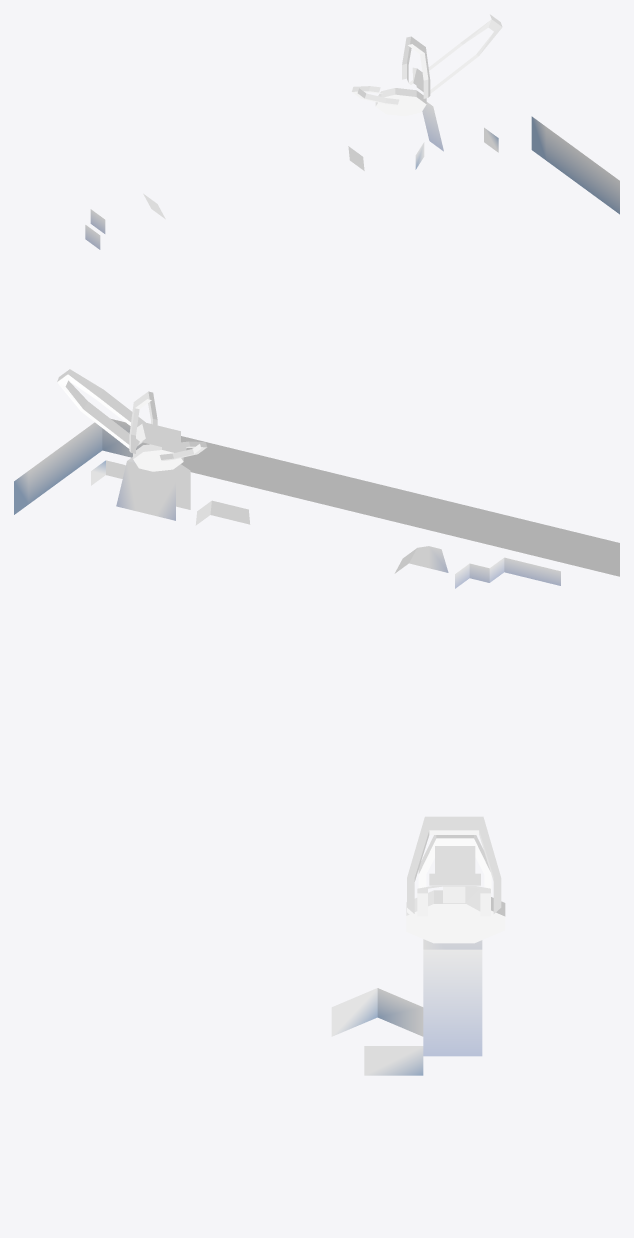
3 views of the same model, one above another, from view 1: azimuth 30°, elevation 25°; view 2: azimuth 150°, elevation 25°; view 3: azimuth 270°, elevation 25° (orthographic). The views are drawn at different scales.
Parts seen in each view (by area): view 1: object0; view 2: object0; view 3: object0.
Part boxes in pixels (<box>): object0: <box>85,14,619,249</box>; object0: <box>14,369,619,588</box>; object0: <box>331,816,505,1075</box>.
Size of the model in its own units: 9370 by 2554 by 2952.
